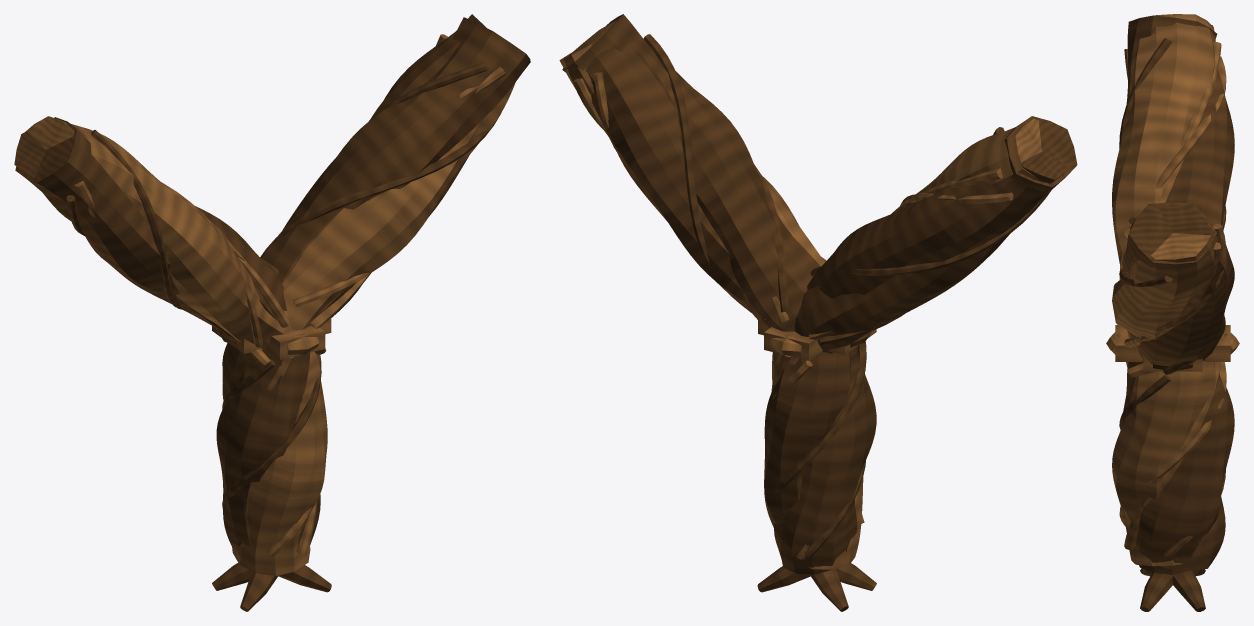
Rendered from rootforged-worldroot-y-brace-4m.glb.
3 views of the same model, side by side, from view 1: azimuth 30°, elevation 25°; view 2: azimuth 150°, elevation 25°; view 3: azimuth 270°, elevation 25° (orthographic). The views are drawn at different scales.
Parts seen in each view (by area): view 1: arm-1-root-0, arm--1-root-1, arm-1-root-1, arm--1-root-0, trunk-root-1, trunk-root-0, arm--1-root-2, arm-1-root-2, arm-1-ridge-0, arm--1-ridge-0, trunk-ridge-0, trunk-root-2 (+6 smaller); view 2: arm-1-root-0, arm-1-root-2, arm--1-root-2, trunk-root-0, arm--1-root-0, trunk-root-2, arm--1-root-1, arm-1-ridge-2, arm-1-root-1, arm--1-ridge-2, trunk-ridge-2, trunk-root-1 (+5 smaller); view 3: arm--1-root-1, trunk-root-1, trunk-root-2, arm-1-root-1, arm-1-root-2, arm--1-root-2, arm-1-root-0, trunk-root-0, arm--1-root-0, trunk-vein-1, arm--1-vein-1, arm--1-ridge-1 (+14 smaller).
Boxes of the visible parts, x1,y1,x2,y2 form: arm-1-root-0: (261,17,530,283); arm--1-root-1: (26,116,292,348); arm-1-root-1: (282,82,515,330); arm--1-root-0: (15,117,234,338); trunk-root-1: (232,351,327,575); trunk-root-0: (216,348,310,549); arm--1-root-2: (14,131,286,319); arm-1-root-2: (317,14,486,317); arm-1-ridge-0: (260,112,501,257); arm--1-ridge-0: (91,130,181,309); trunk-ridge-0: (222,354,321,508); trunk-root-2: (222,343,320,545); arm-1-root-0: (562,14,820,331); arm-1-root-2: (569,20,751,312); arm--1-root-2: (807,152,1069,298); trunk-root-0: (774,346,876,574); arm--1-root-0: (794,116,1077,353); trunk-root-2: (764,351,850,527); arm--1-root-1: (891,118,1041,213); arm-1-ridge-2: (643,34,709,264); arm-1-root-1: (559,40,824,266); arm--1-ridge-2: (810,191,1050,276); trunk-ridge-2: (774,342,866,494); trunk-root-1: (772,352,863,569); arm--1-root-1: (1112,14,1215,265); trunk-root-1: (1112,361,1215,566); trunk-root-2: (1130,374,1234,574); arm-1-root-1: (1112,222,1216,358); arm-1-root-2: (1130,204,1234,364); arm--1-root-2: (1166,25,1234,225); arm-1-root-0: (1122,202,1225,360); trunk-root-0: (1123,359,1225,570); arm--1-root-0: (1126,15,1217,103); trunk-vein-1: (1124,362,1220,550); arm--1-vein-1: (1160,42,1221,202); arm--1-ridge-1: (1119,56,1226,279).
Bounding box in the file's own units: 4 × 4 × 1.
2 materials, 2 textured.
